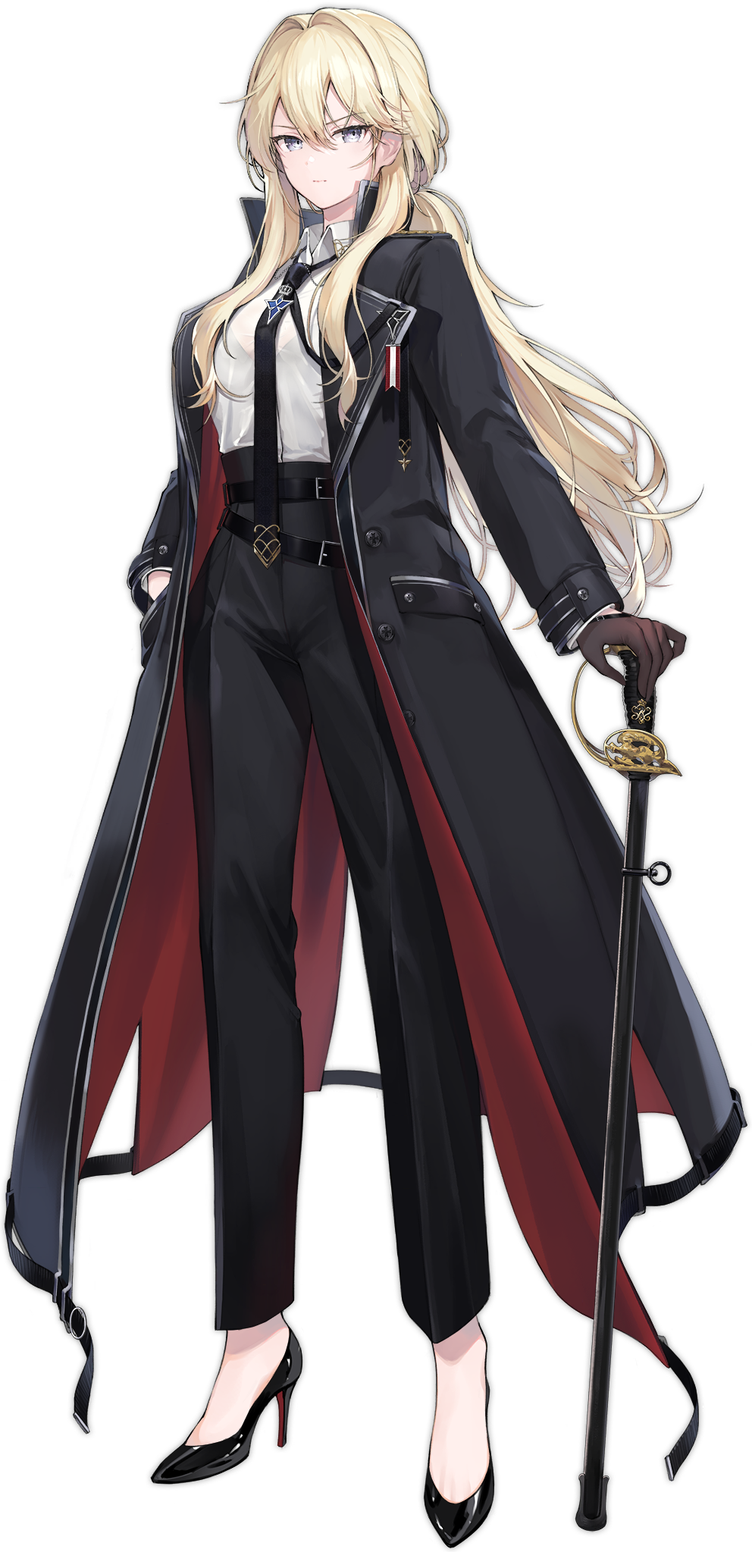person: (4, 3, 743, 1551)
